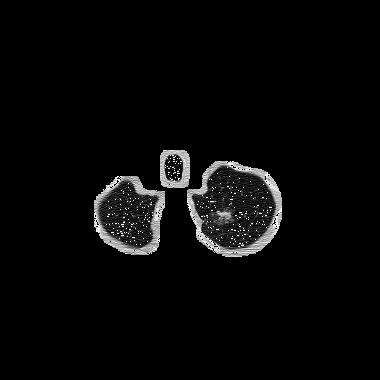PN: (211, 206, 231, 226)
